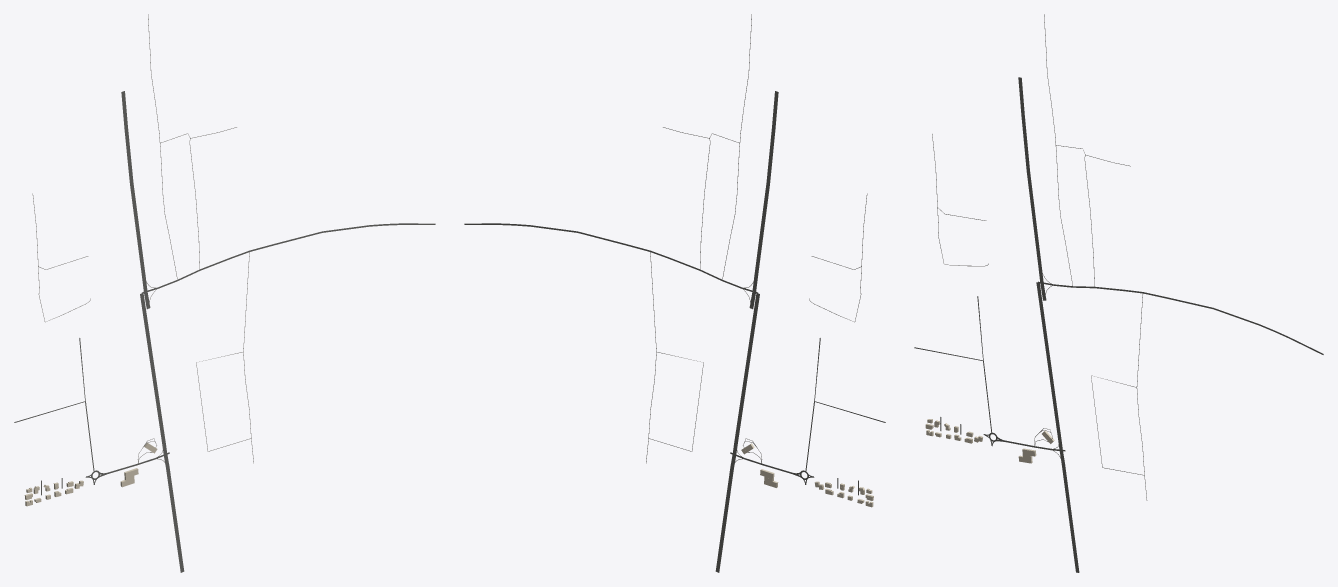
Rendered from historic-palestine-07_26_3490_3205.glb.
3 views of the same model, side by side, from view 1: azimuth 30°, elevation 25°; view 2: azimuth 150°, elevation 25°; view 3: azimuth 330°, elevation 25° (orthographic). The views are drawn at different scales.
Parts seen in each view (by area): view 1: Road 40.001, Road 40, Road שניר.001; view 2: Road 40.001, Road 40, Road שניר.001; view 3: Road 40.001, Road 40, Road שניר.001.
Part boxes in pixels (x1,y1,x2,y2): Road 40.001: [140, 293, 184, 572]; Road 40: [121, 91, 147, 292]; Road שניר.001: [146, 223, 435, 292]; Road 40.001: [715, 293, 759, 572]; Road 40: [752, 91, 778, 292]; Road שניר.001: [464, 223, 754, 291]; Road 40.001: [1036, 282, 1079, 572]; Road 40: [1018, 77, 1043, 282]; Road שניר.001: [1042, 282, 1323, 354].
Size of the model in its own units: 1398 by 1797 by 8.7.
